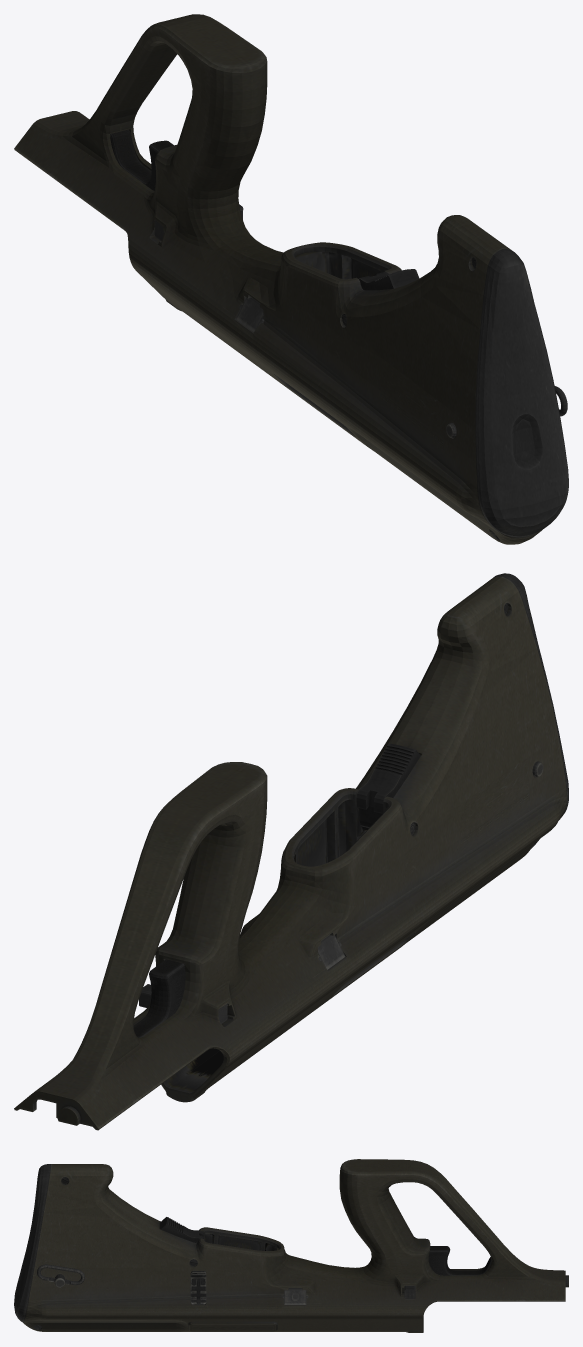
3 views of the same model, one above another, from view 1: azimuth 30°, elevation 25°; view 2: azimuth 150°, elevation 25°; view 3: azimuth 270°, elevation 25° (orthographic). The views are drawn at different scales.
Parts seen in each view (by area): view 1: TW_63171672192e68c5460cebc5_PZ_Import; view 2: TW_63171672192e68c5460cebc5_PZ_Import; view 3: TW_63171672192e68c5460cebc5_PZ_Import.
Boxes of the visible parts, x1,y1,x2,y2 form: TW_63171672192e68c5460cebc5_PZ_Import: (14, 14, 568, 544); TW_63171672192e68c5460cebc5_PZ_Import: (14, 573, 568, 1130); TW_63171672192e68c5460cebc5_PZ_Import: (14, 1159, 568, 1332).
Size of the model in its own units: 0.0383 by 0.2917 by 0.0966.
1 material, 1 textured.
